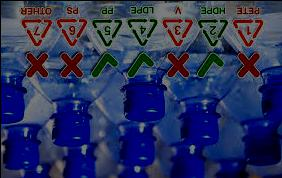Plastic: (172, 91, 226, 148)
